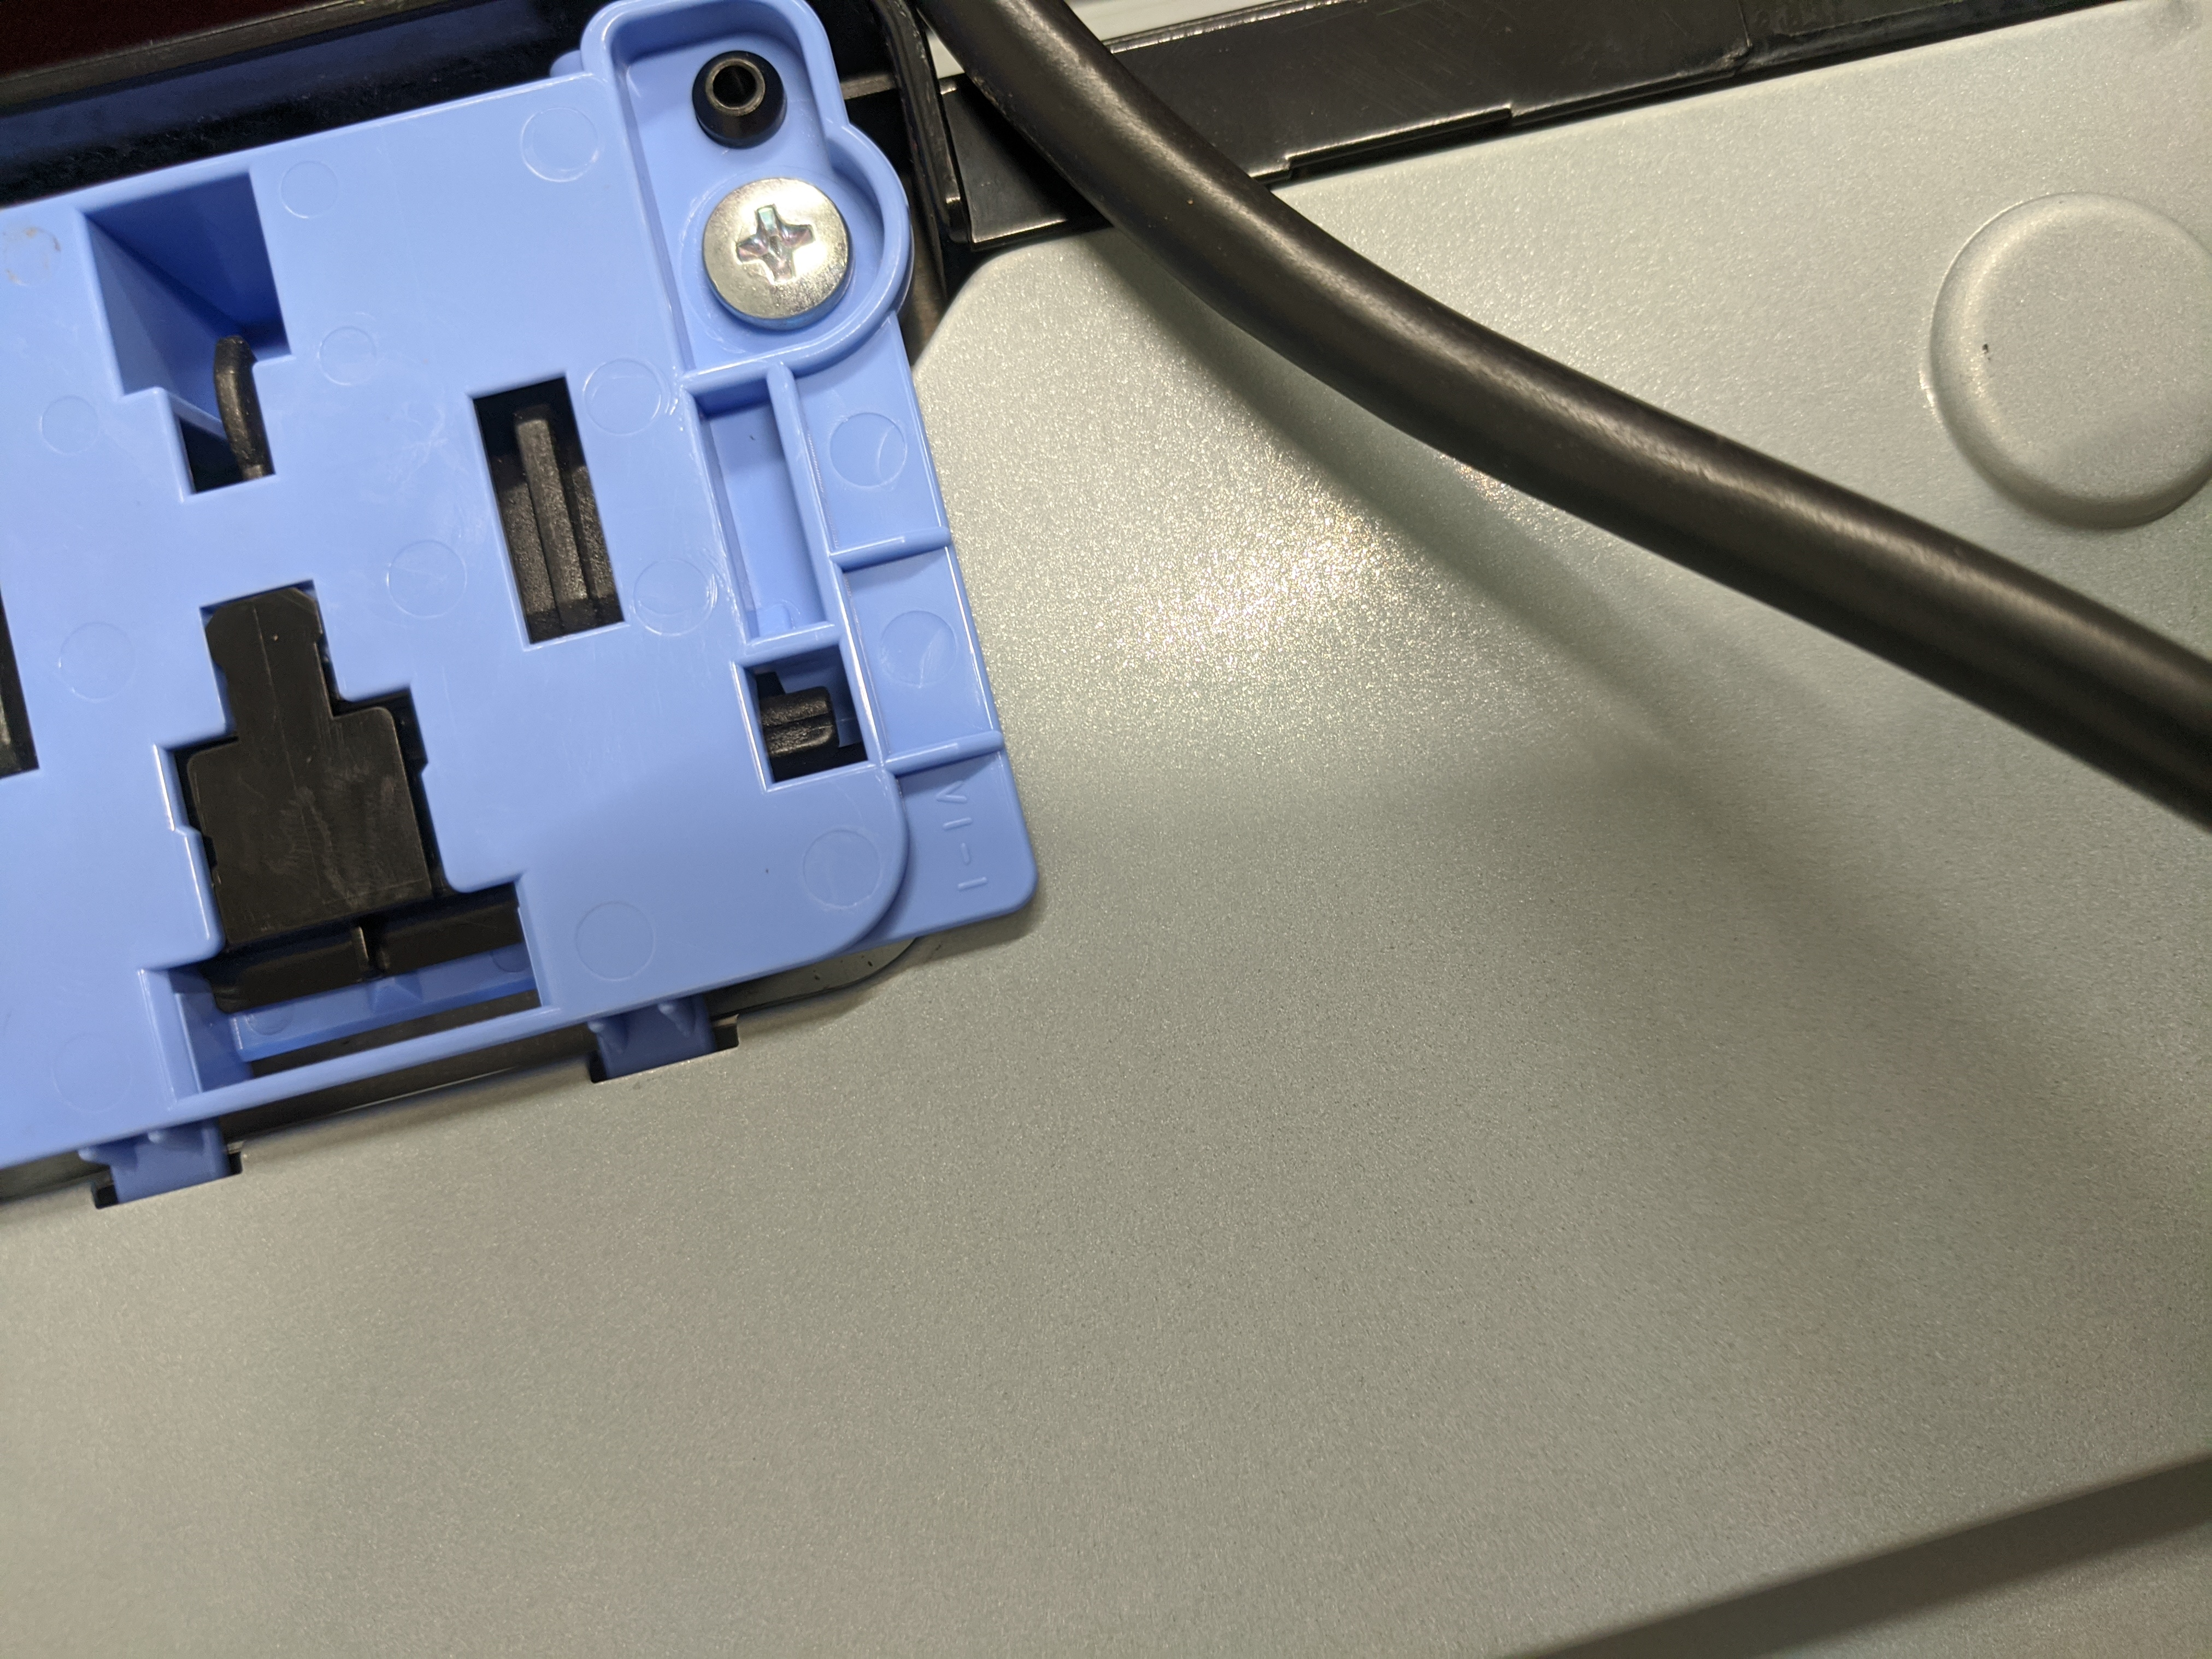cross_recessed_screw: (688, 164, 853, 333)
